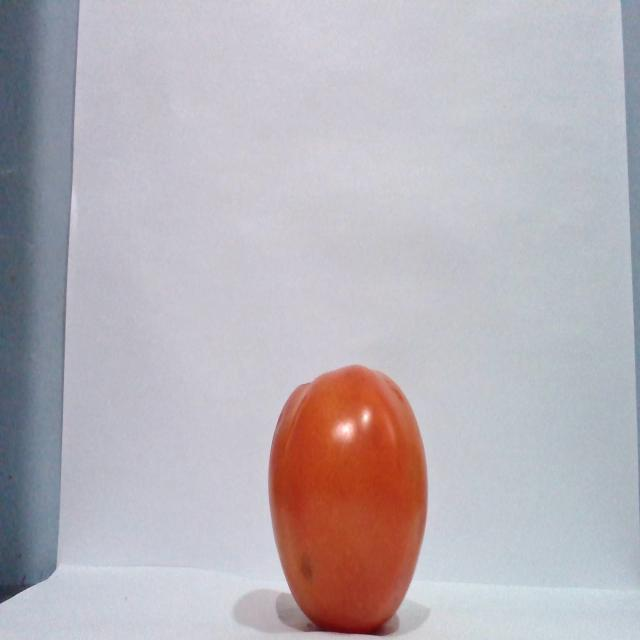Red: (266, 363, 429, 633)
